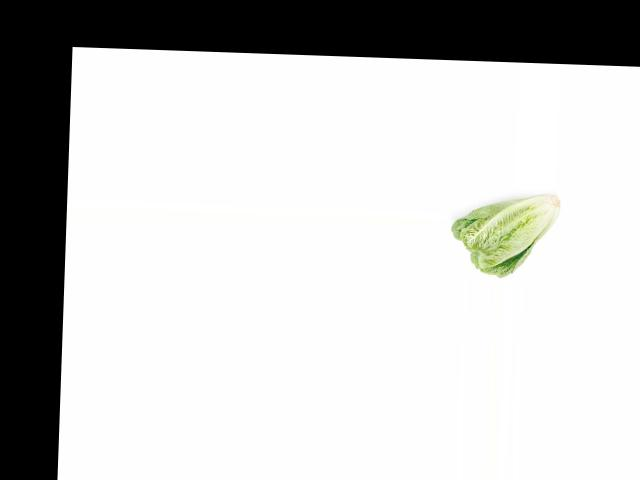lettuce: (450, 189, 562, 279)
